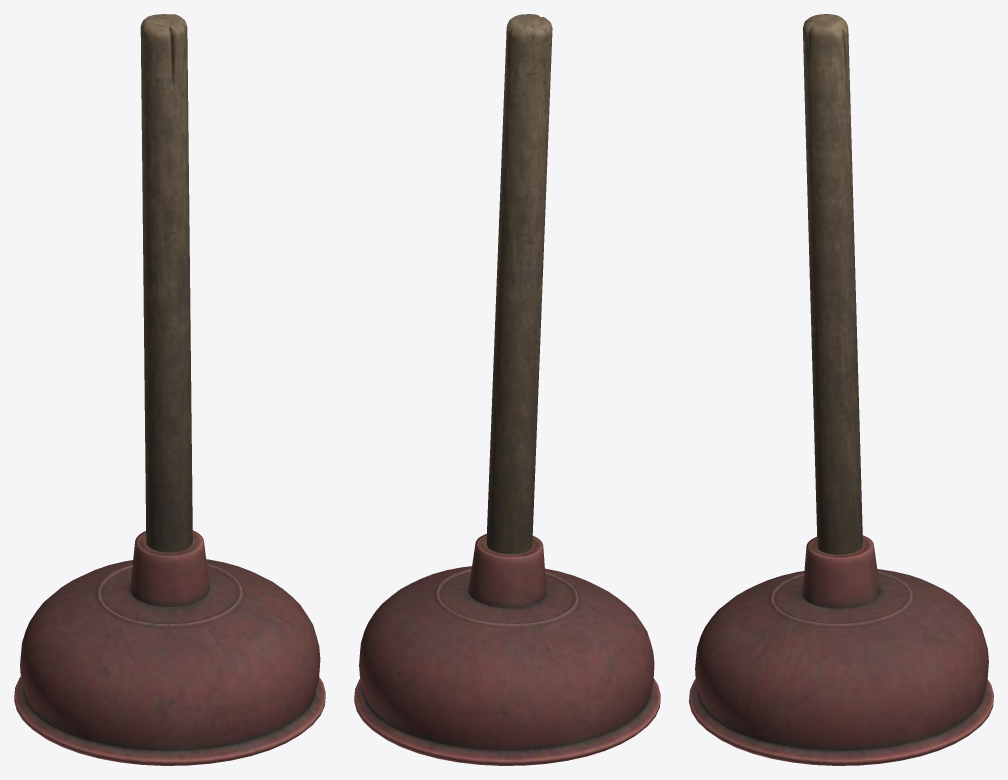
The model's file is plunger.gltf.
The picture shows the model from 3 angles, left to right: view 1: azimuth 30°, elevation 25°; view 2: azimuth 150°, elevation 25°; view 3: azimuth 270°, elevation 25°; orthographic projection. The views are drawn at different scales.
Parts seen in each view (by area): view 1: plunger; view 2: plunger; view 3: plunger.
Part boxes in pixels (x1,y1,x2,y2): plunger: [14, 14, 325, 765]; plunger: [354, 14, 660, 765]; plunger: [689, 14, 993, 765].
Size of the model in its own units: 0.1721 by 0.4211 by 0.1721.
